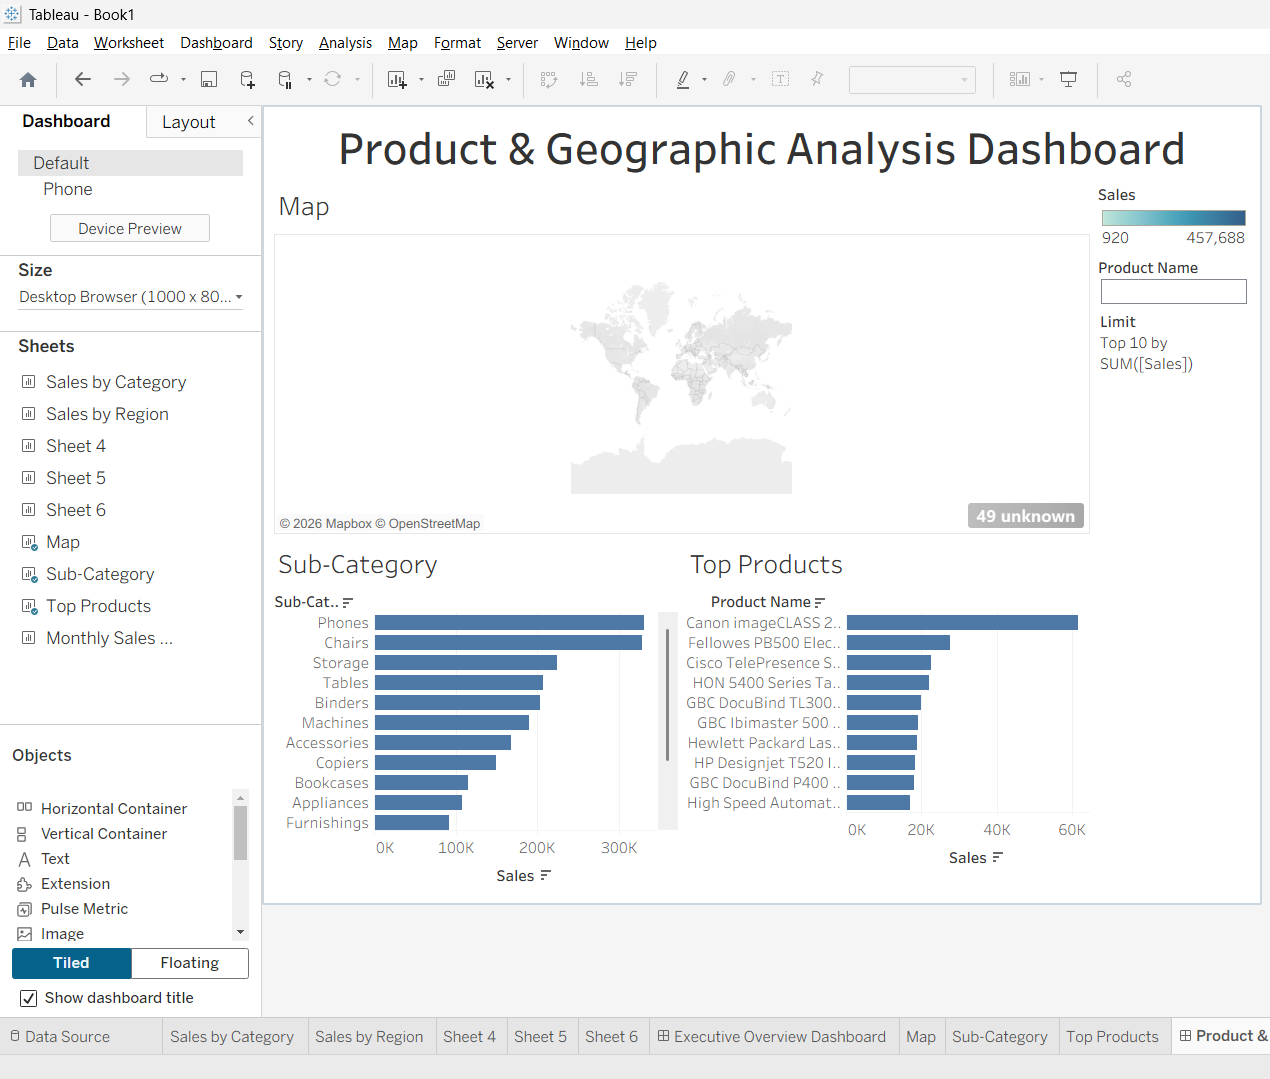

What the dashboard file says about the page in this screenshot:
{"tool":"tableau","page":{"name":"Product & Region Analysis Dashboard","canvas":[1000,800],"ordinal":1},"visuals":[{"type":"title","box":[8,8,984,67]},{"type":"worksheet","title":"Map","mark":"Automatic","box":[8,75,824,358.5]},{"type":"legend","title":"Map","param":"[federated.1c767c40ahcuwa1cjwv9s1x99baa].[sum:Sales:qk]","box":[832,75,160,73]},{"type":"filter","title":"Top Products","param":"[federated.1c767c40ahcuwa1cjwv9s1x99baa].[none:Product Name:nk]","box":[832,148,160,129]},{"type":"worksheet","title":"Sub-Category","mark":"Automatic","rows":["Sub-Category"],"cols":["Sales"],"box":[8,433.5,412,358.5]},{"type":"worksheet","title":"Top Products","mark":"Automatic","rows":["Product Name"],"cols":["Sales"],"box":[420,433.5,412,358.5]}]}

Visuals, with their boxes on the page's 1000x800 design canvas (x1, y1, x2, y2). These are canvas units, not pixel positions in the 1270x1079 screenshot, which may show the page scaled, cropped or inside an application window:
title: x1=8 y1=8 x2=992 y2=75
"Map" worksheet: x1=8 y1=75 x2=832 y2=434
"Map" legend: x1=832 y1=75 x2=992 y2=148
"Top Products" filter: x1=832 y1=148 x2=992 y2=277
"Sub-Category" worksheet: x1=8 y1=434 x2=420 y2=792
"Top Products" worksheet: x1=420 y1=434 x2=832 y2=792
